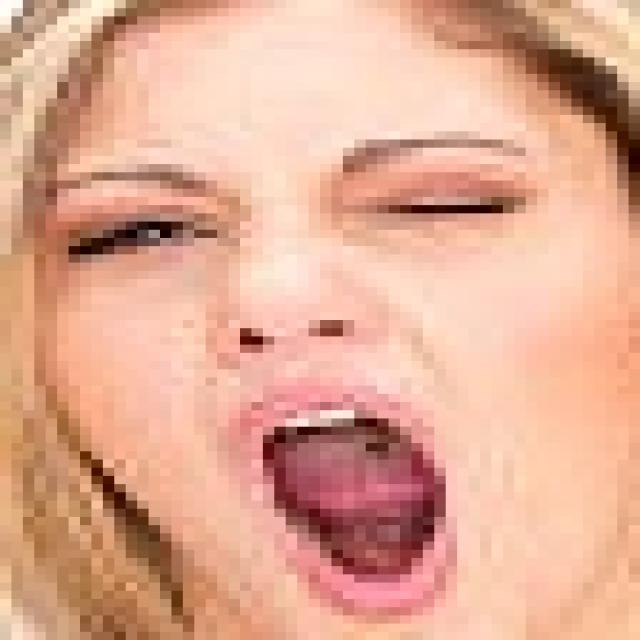Anxiety: (43, 0, 629, 632)
